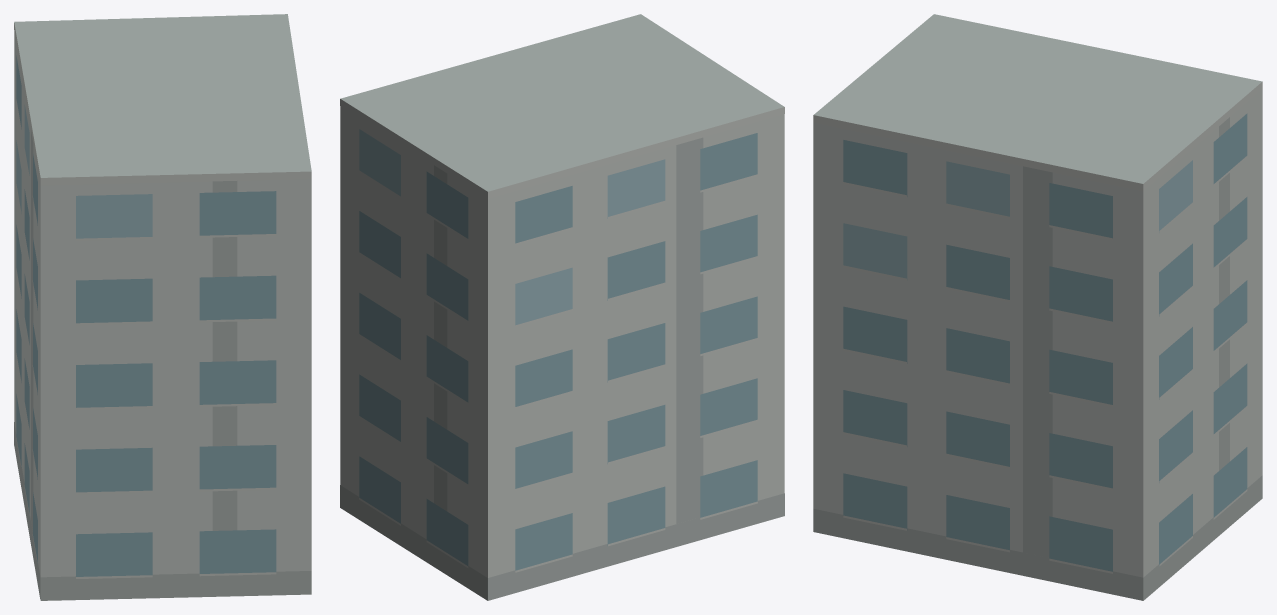
The model's file is survey-upis-32724576.glb.
The picture shows the model from 3 angles, left to right: view 1: azimuth 30°, elevation 25°; view 2: azimuth 150°, elevation 25°; view 3: azimuth 270°, elevation 25°; orthographic projection. The views are drawn at different scales.
Parts seen in each view (by area): view 1: survey-upis-32724576.tmp; view 2: survey-upis-32724576.tmp; view 3: survey-upis-32724576.tmp.
Boxes of the visible parts, x1=… form: survey-upis-32724576.tmp: x1=14, y1=14, x2=311, y2=600; survey-upis-32724576.tmp: x1=340, y1=14, x2=784, y2=600; survey-upis-32724576.tmp: x1=813, y1=14, x2=1262, y2=600.
Bounding box in the file's own units: 11.99 × 13.7 × 13.39.
